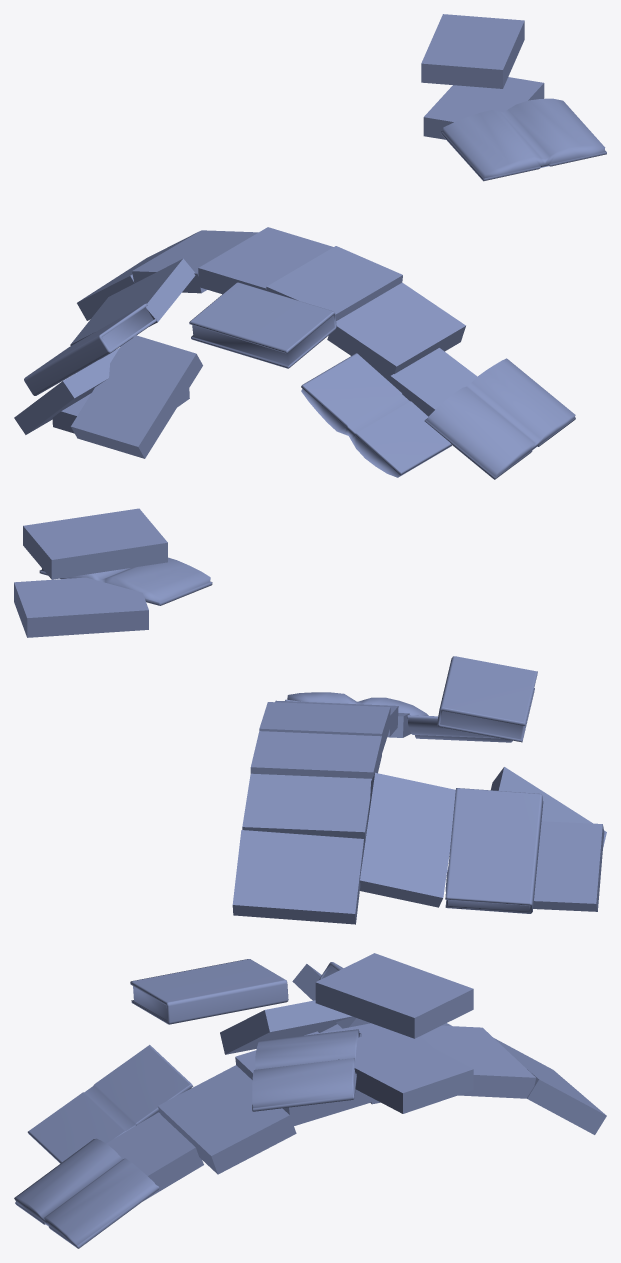
File: Cupboard_11C_Break_Lod0.fbx
3 renders of one model, top to bottom at view 1: azimuth 30°, elevation 25°; view 2: azimuth 150°, elevation 25°; view 3: azimuth 270°, elevation 25°, orthographic. The views are drawn at different scales.
Parts seen in each view (by area): view 1: Cupboard_11C_Break_Lod0; view 2: Cupboard_11C_Break_Lod0; view 3: Cupboard_11C_Break_Lod0.
Boxes of the visible parts, bbox=[...] form: Cupboard_11C_Break_Lod0: bbox=[14, 14, 606, 479]; Cupboard_11C_Break_Lod0: bbox=[14, 508, 606, 924]; Cupboard_11C_Break_Lod0: bbox=[14, 953, 606, 1248].
Bounding box in the file's own units: 167 × 80.09 × 143.
